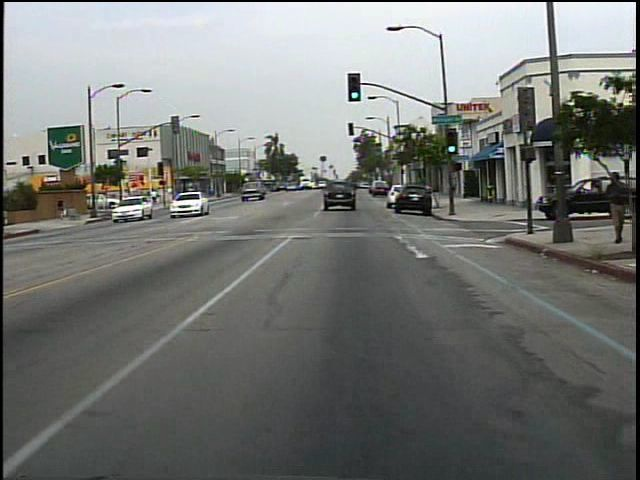person: (597, 165, 624, 249), (54, 194, 73, 223), (148, 185, 164, 210)
